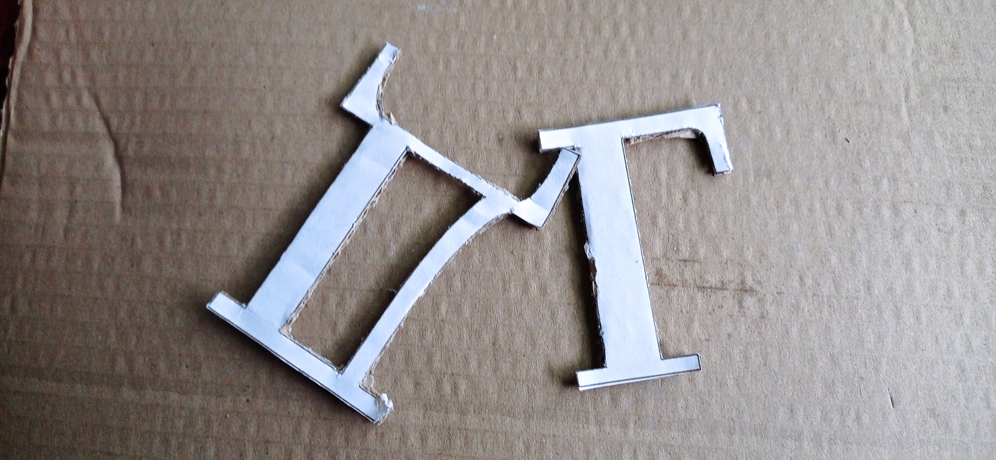d: (206, 40, 578, 422)
g: (538, 102, 734, 394)
